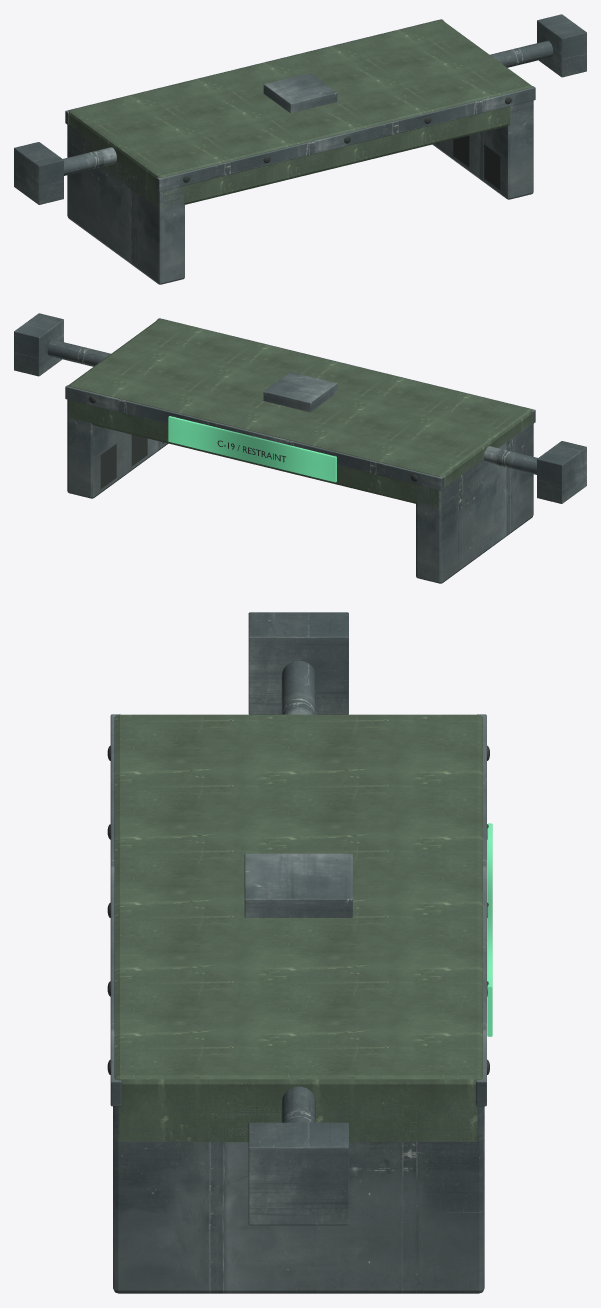
Rendered from containment_grip.glb.
The picture shows the model from 3 angles, top to bottom: view 1: azimuth 30°, elevation 25°; view 2: azimuth 150°, elevation 25°; view 3: azimuth 270°, elevation 25°; orthographic projection. The views are drawn at different scales.
Visible parts, largest first — view 1: containment_grip / containment_sage_enamel, containment_grip / containment_worn_steel, containment_grip / power_blackened_steel; view 2: containment_grip / containment_sage_enamel, containment_grip / containment_worn_steel, containment_grip / power_instrument_ivory, containment_grip / power_blackened_steel; view 3: containment_grip / containment_sage_enamel, containment_grip / containment_worn_steel, containment_grip / power_instrument_ivory.
Part boxes in pixels (x1,y1,x2,y2): containment_grip / containment_sage_enamel: (68, 20, 532, 207); containment_grip / containment_worn_steel: (14, 14, 586, 284); containment_grip / power_blackened_steel: (183, 97, 511, 189); containment_grip / containment_sage_enamel: (68, 319, 532, 507); containment_grip / containment_worn_steel: (14, 313, 586, 583); containment_grip / power_instrument_ivory: (168, 416, 336, 482); containment_grip / power_blackened_steel: (89, 396, 417, 488); containment_grip / containment_sage_enamel: (114, 714, 482, 1141); containment_grip / containment_worn_steel: (110, 612, 486, 1293); containment_grip / power_instrument_ivory: (487, 823, 492, 1036).
Size of the model in its own units: 8.18 by 1.69 by 2.49.
4 materials, 2 textured.
